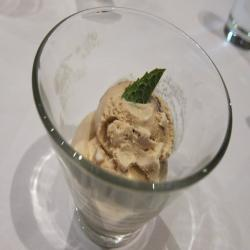icecream: (52, 74, 184, 217)
